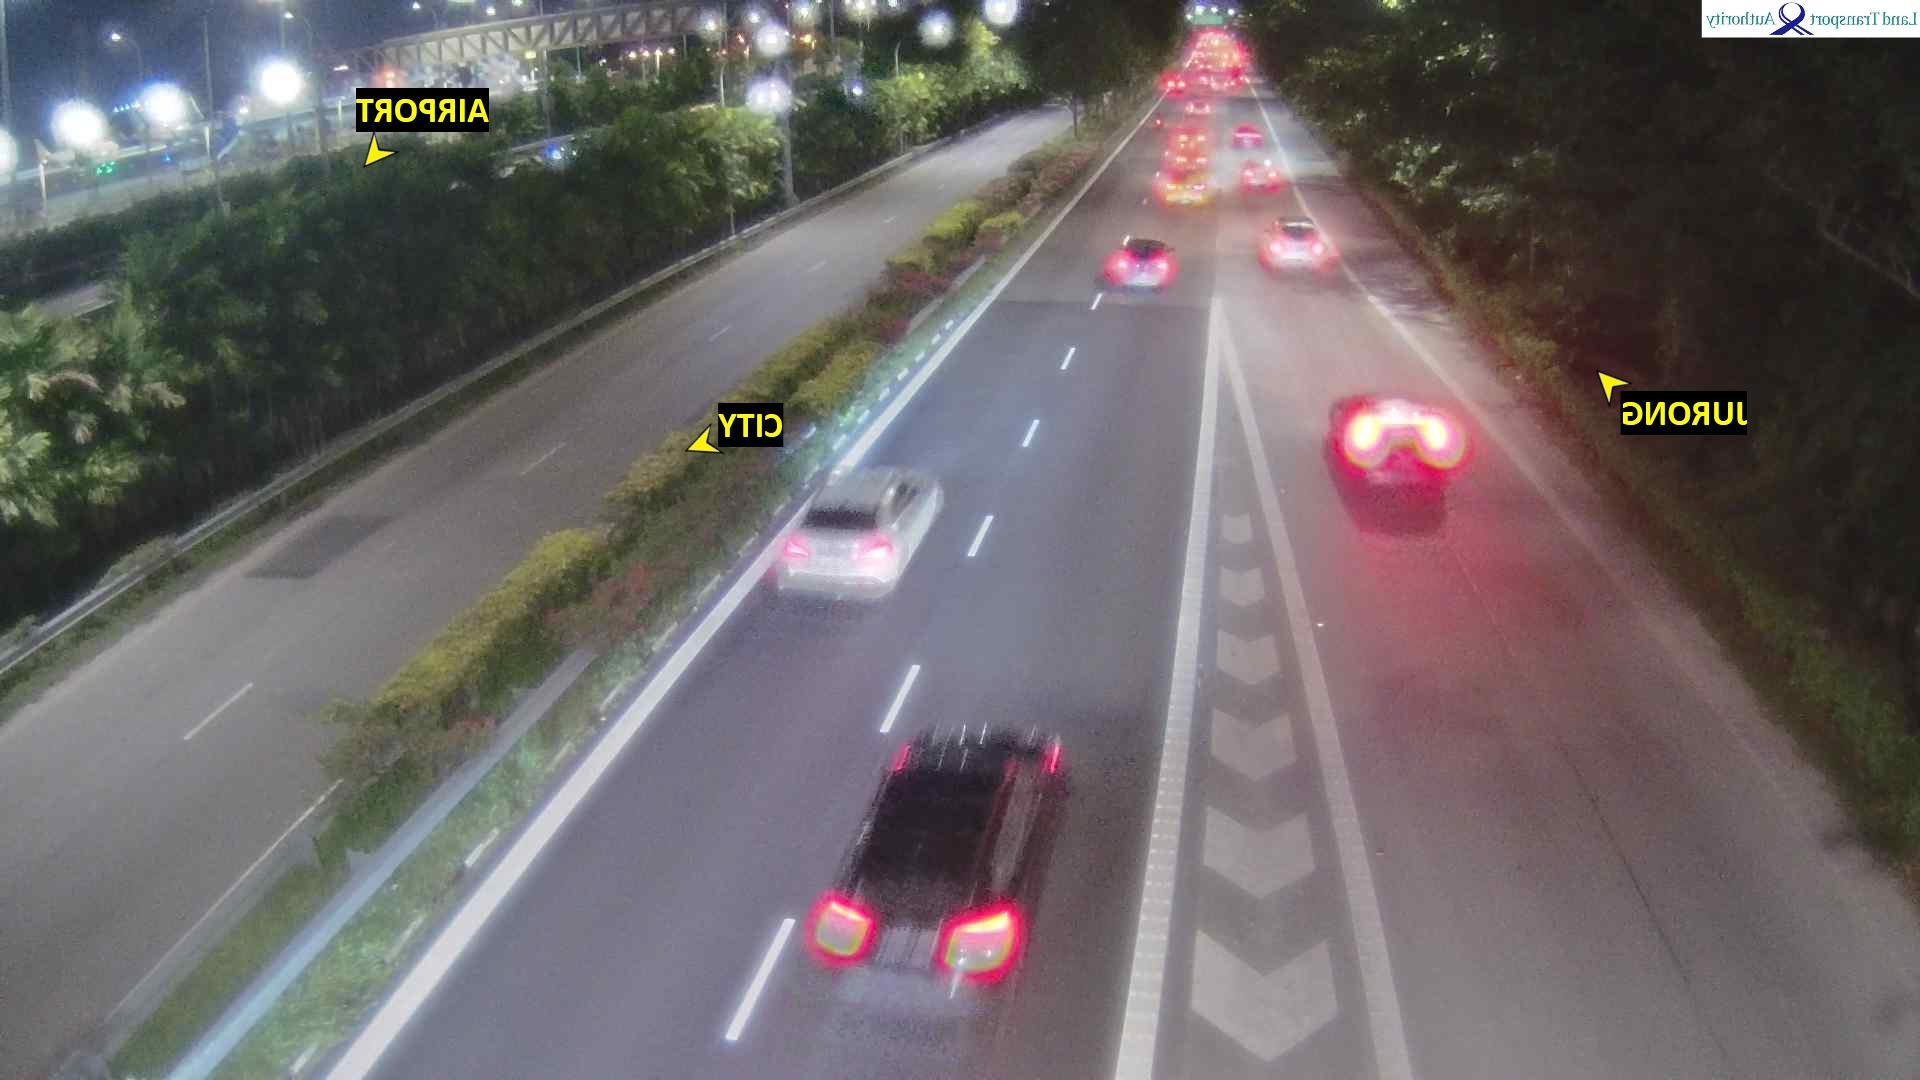cars: (804, 718, 1072, 997), (775, 463, 946, 603), (1326, 392, 1471, 501), (1257, 215, 1339, 276), (1102, 234, 1181, 290), (1151, 160, 1219, 207), (1162, 127, 1212, 172), (1241, 157, 1286, 195), (1232, 122, 1265, 149), (1184, 98, 1215, 120), (1163, 71, 1189, 96), (1197, 71, 1216, 85), (1222, 76, 1238, 91), (1197, 59, 1213, 71)
motorcycle: (1149, 110, 1165, 129)
